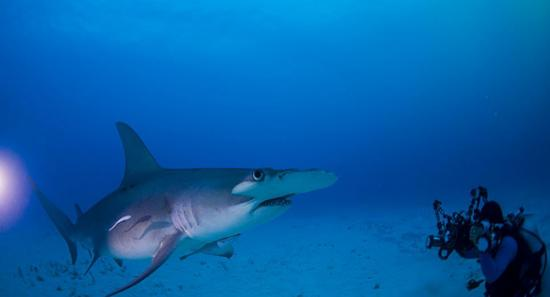shark: (27, 121, 341, 297)
